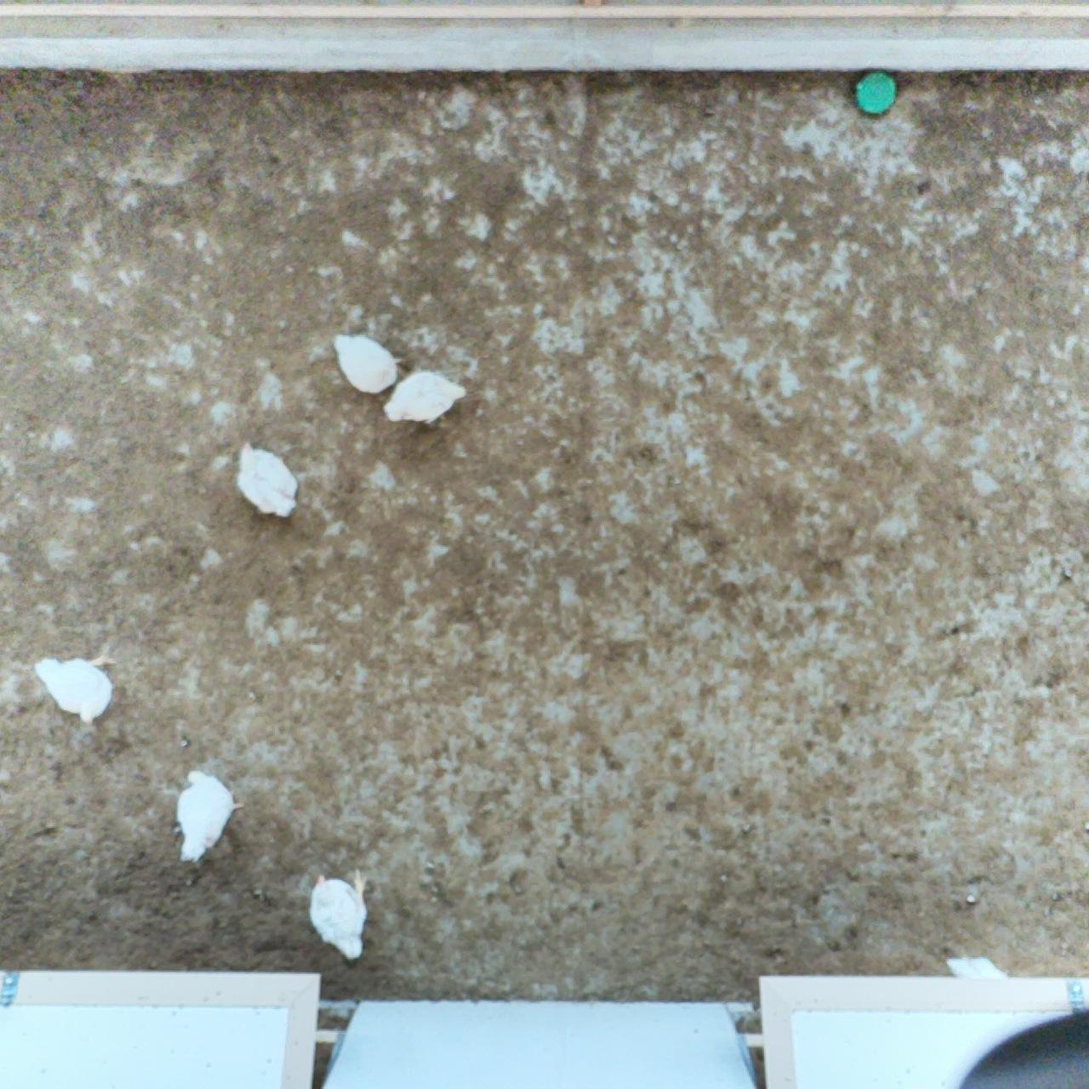chicken: (169, 765, 246, 865), (305, 865, 370, 965), (35, 653, 121, 724), (231, 438, 301, 523), (380, 364, 472, 428), (332, 328, 412, 396), (940, 951, 1010, 980)
